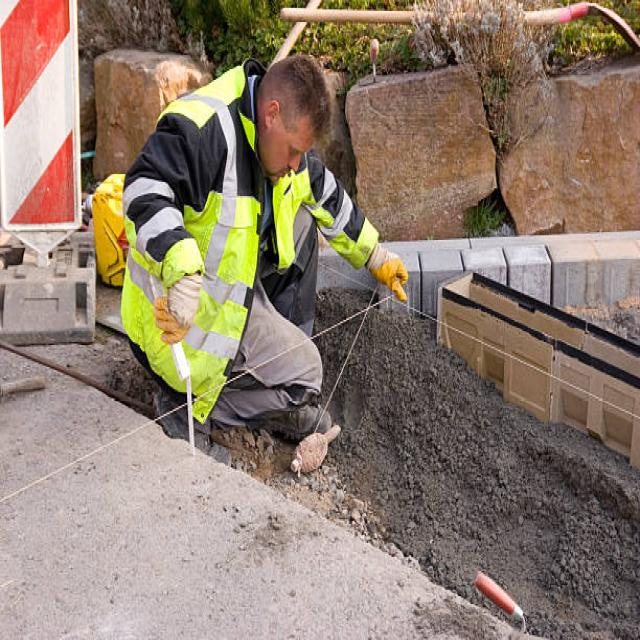gloves: (153, 271, 205, 347), (366, 243, 410, 301)
